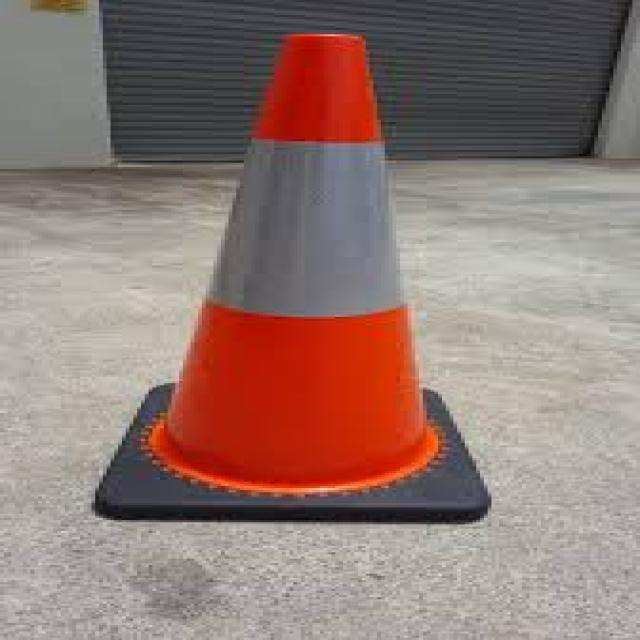Traffic Cone: (16, 0, 614, 640)
